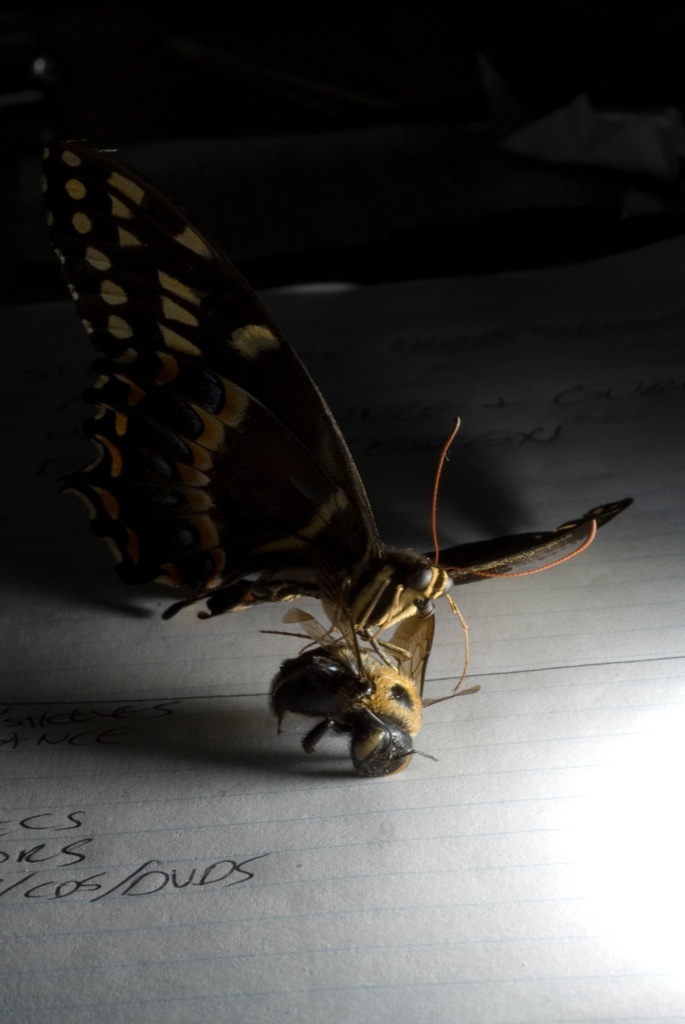Butterfly: (9, 112, 505, 640)
